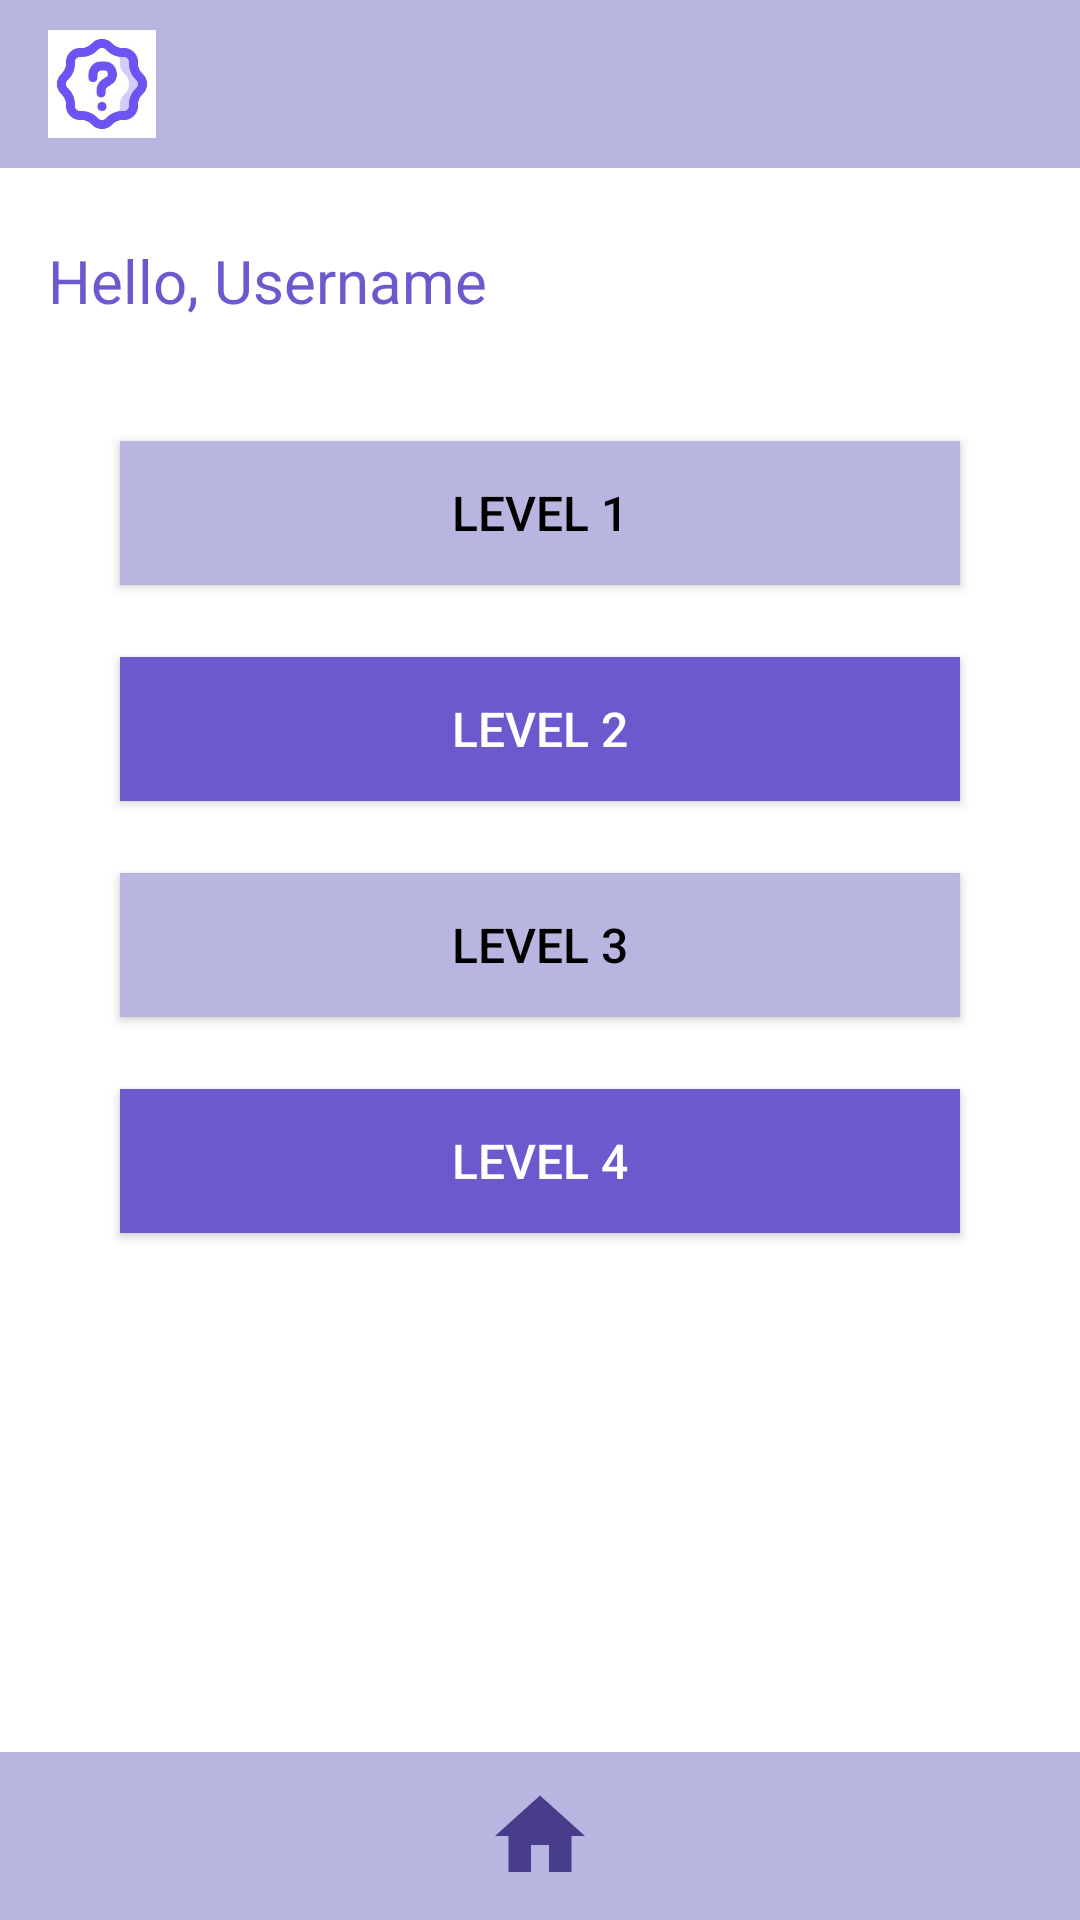

Named icons in this screenshot (1080w x 1920h) and their bounding boxes, bbox=(x1, y1, x2, y2):
Home: bbox=(495, 1796, 585, 1872)
